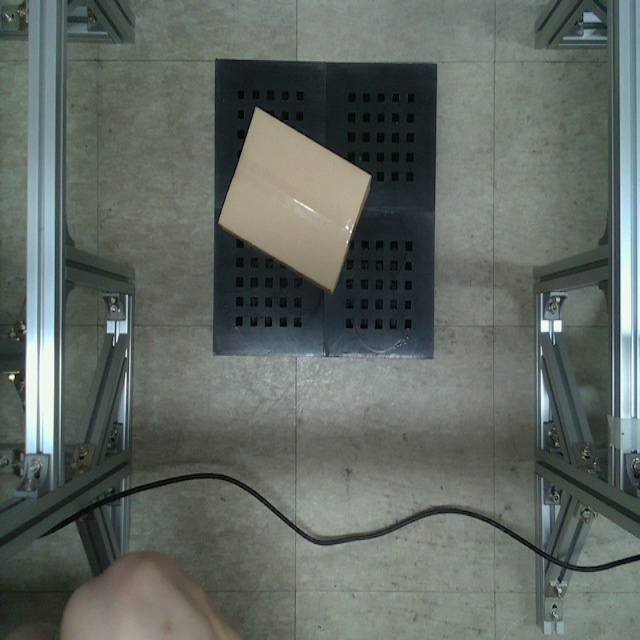box: (219, 103, 371, 300)
pallet: (209, 53, 437, 362)
